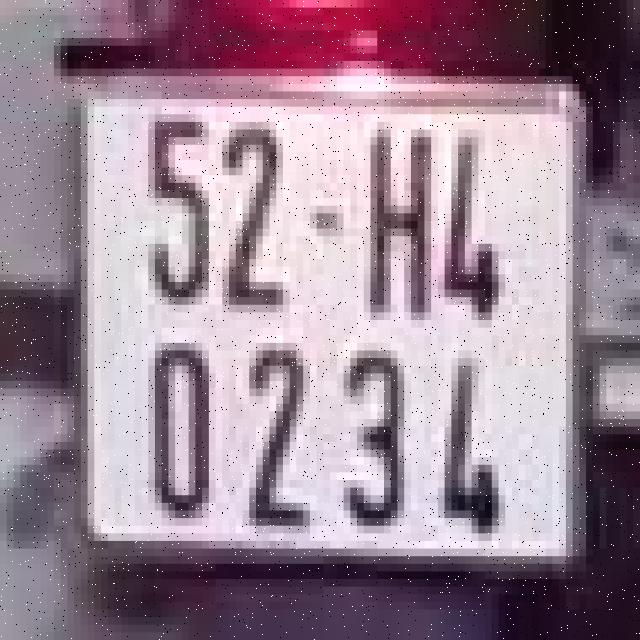0: (145, 324, 226, 529)
2: (232, 324, 320, 537), (219, 106, 300, 328)
3: (327, 332, 421, 537)
4: (434, 118, 508, 339), (431, 343, 505, 541)
5: (138, 110, 226, 308)
H: (350, 114, 438, 328)
